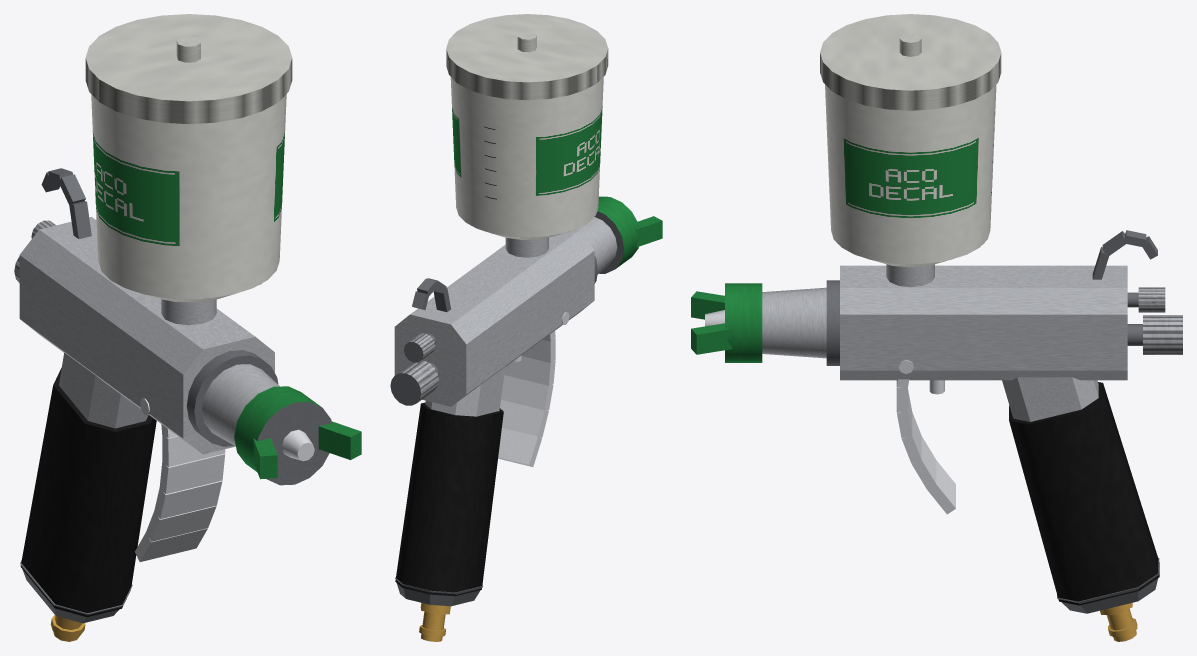
File: ACO_DecalGun.fbx
3 renders of one model, left to right at view 1: azimuth 30°, elevation 25°; view 2: azimuth 150°, elevation 25°; view 3: azimuth 270°, elevation 25°, orthographic. The views are drawn at different scales.
Parts seen in each view (by area): view 1: ACO_DecalGun; view 2: ACO_DecalGun; view 3: ACO_DecalGun.
Boxes of the visible parts, x1=… form: ACO_DecalGun: x1=14, y1=14, x2=361, y2=641; ACO_DecalGun: x1=390, y1=14, x2=662, y2=641; ACO_DecalGun: x1=691, y1=14, x2=1182, y2=641.
Size of the model in its own units: 8.2 by 29.95 by 22.22.
1 material, 1 textured.
